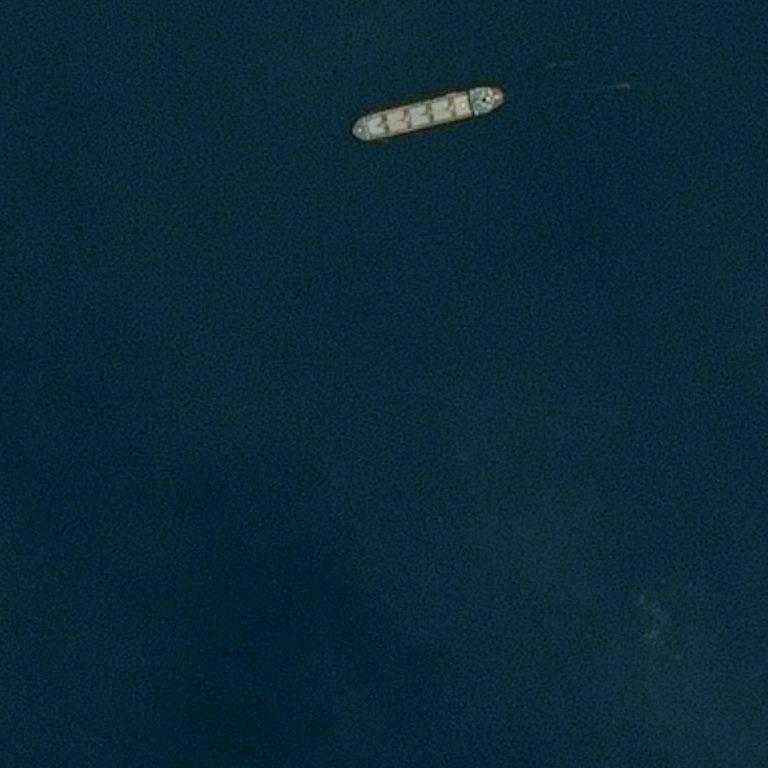ship: (0, 83, 86, 145)
